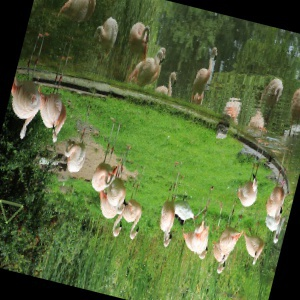triangle: (1, 195, 27, 226)
